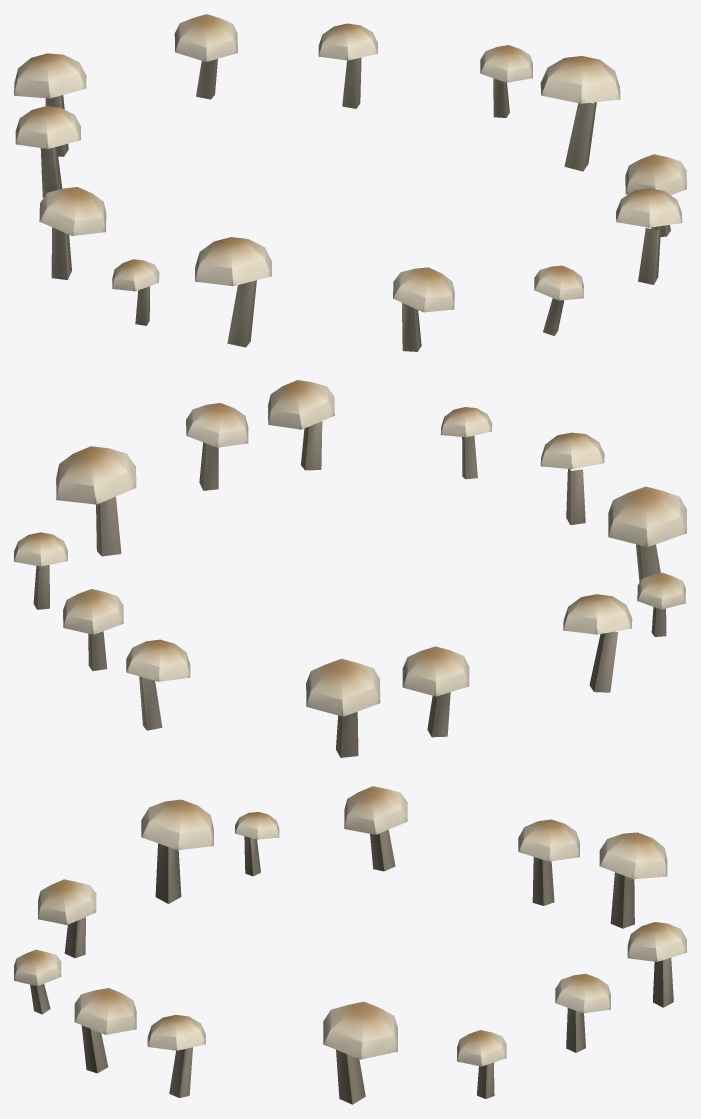
The model's file is mushroom_ring.glb.
The picture shows the model from 3 angles, top to bottom: view 1: azimuth 30°, elevation 25°; view 2: azimuth 150°, elevation 25°; view 3: azimuth 270°, elevation 25°; orthographic projection. The views are drawn at different scales.
Parts seen in each view (by area): view 1: mushroom_ring; view 2: mushroom_ring; view 3: mushroom_ring.
Boxes of the visible parts, <box> form: mushroom_ring: <box>14,14,686,351</box>; mushroom_ring: <box>14,380,686,757</box>; mushroom_ring: <box>14,786,686,1104</box>.
Bounding box in the file's own units: 2.25 × 0.3837 × 2.42.
Materials: 1 (1 with a texture image).
